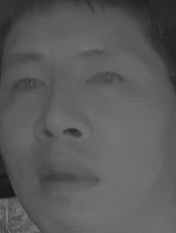eye: (85, 67, 125, 92), (9, 75, 48, 98)
mouth: (32, 155, 100, 199)
